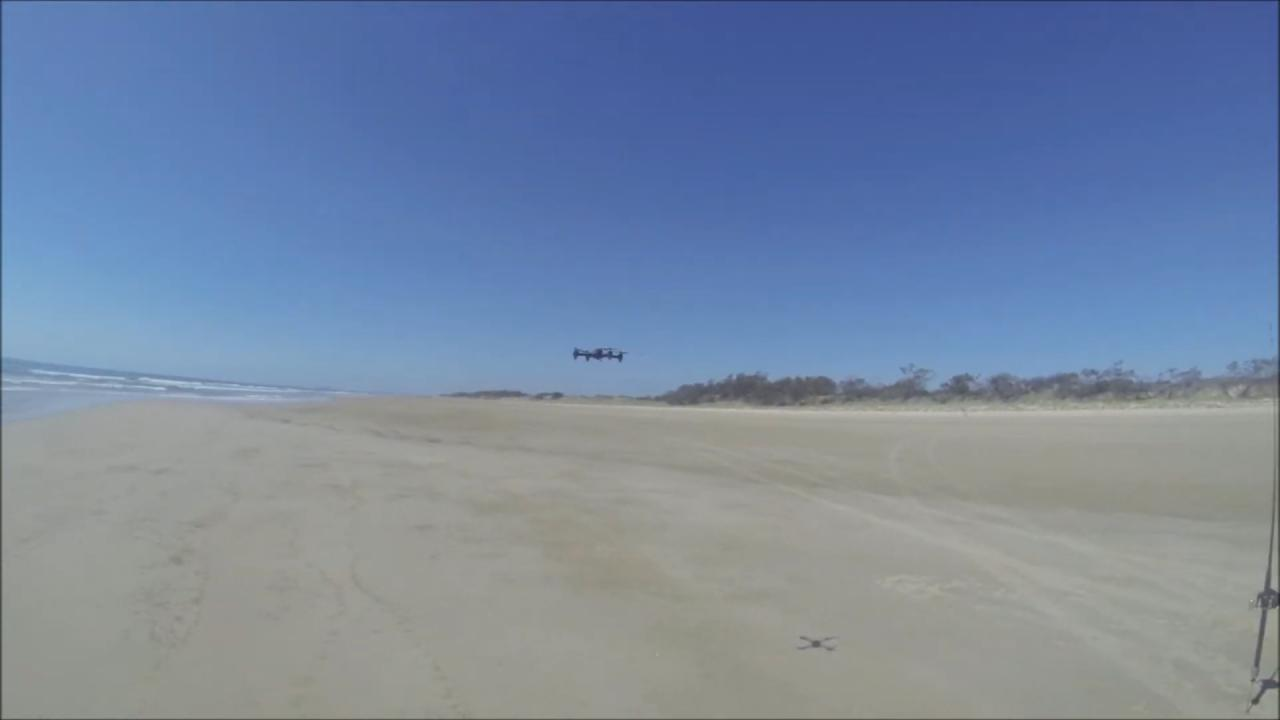Drone: (562, 339, 633, 371)
